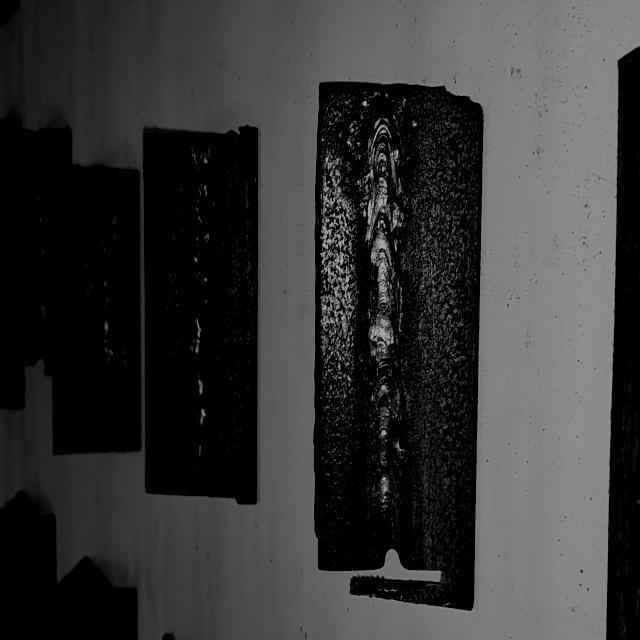Defect: (180, 157, 214, 314), (182, 320, 212, 488), (82, 237, 121, 316), (8, 524, 28, 640)
Welding Line: (368, 114, 403, 536), (186, 148, 208, 496), (88, 174, 115, 436), (23, 146, 52, 362)
Workpiece: (321, 94, 474, 602), (146, 134, 252, 502), (49, 170, 140, 448), (0, 124, 75, 364)
